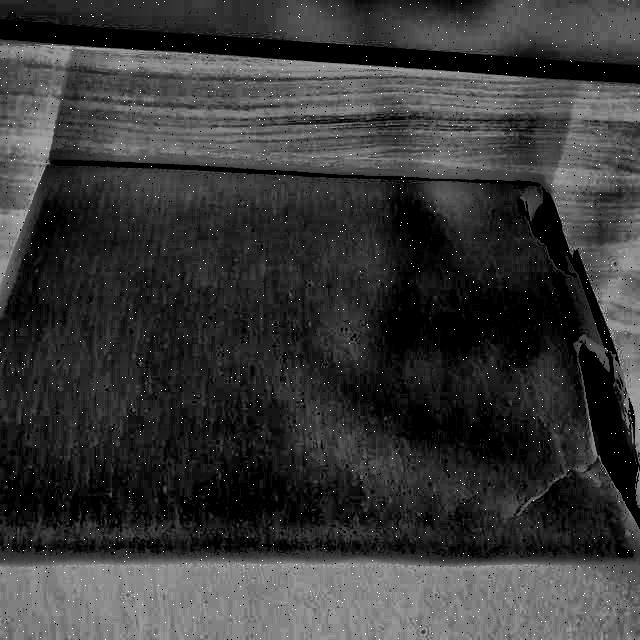box: (0, 145, 639, 640)
hole: (574, 344, 640, 546), (521, 186, 578, 276)
